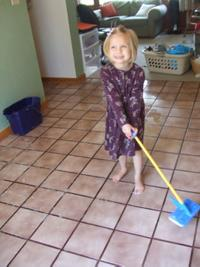person: (99, 25, 148, 196)
